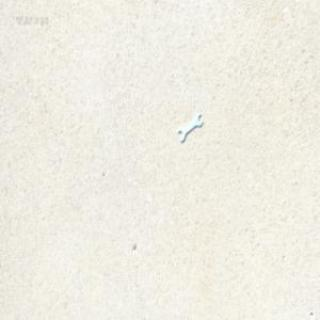Wrenchtrack_idkeyframe: (170, 107, 210, 151)
